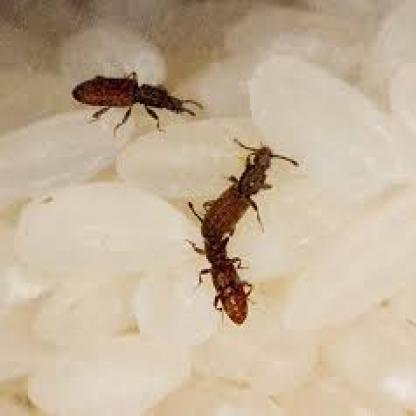rice-bug: (199, 146, 276, 324), (66, 72, 188, 113)
